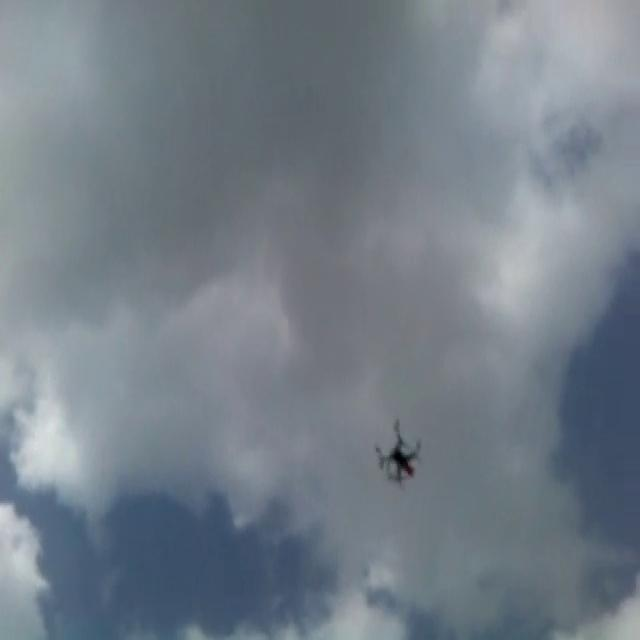drone: (372, 413, 422, 487)
